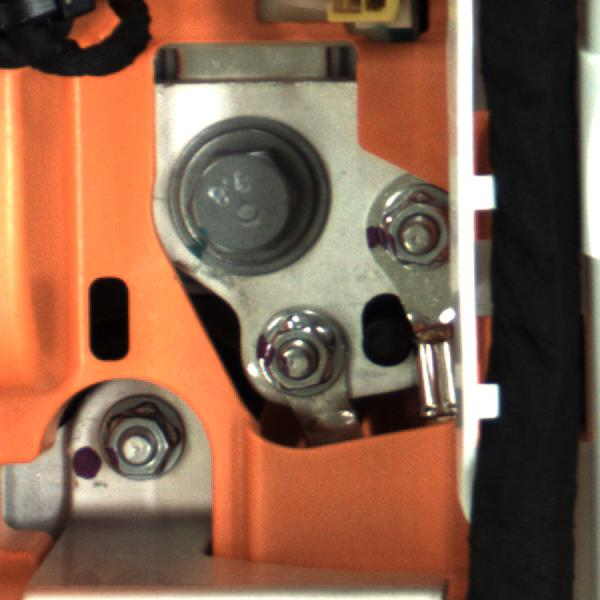nut_b: (158, 126, 321, 273)
screw_s: (91, 387, 195, 497), (247, 300, 351, 406), (371, 186, 467, 273)
